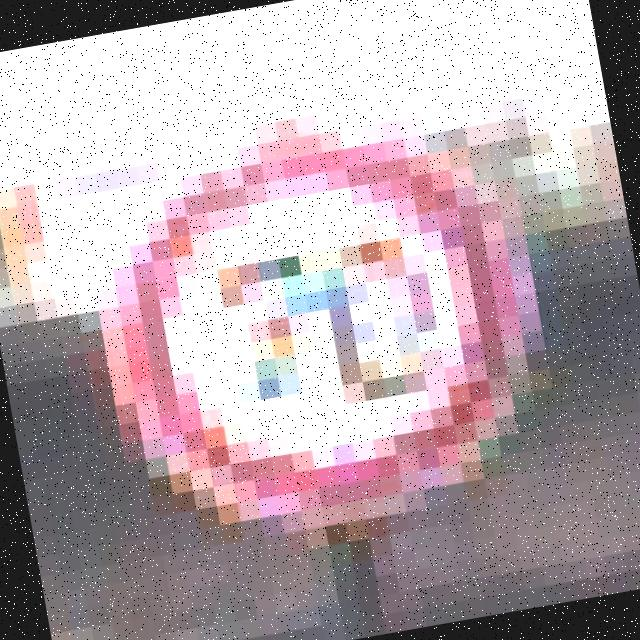Ograniczenie predkosci do 70: (86, 107, 554, 554)
